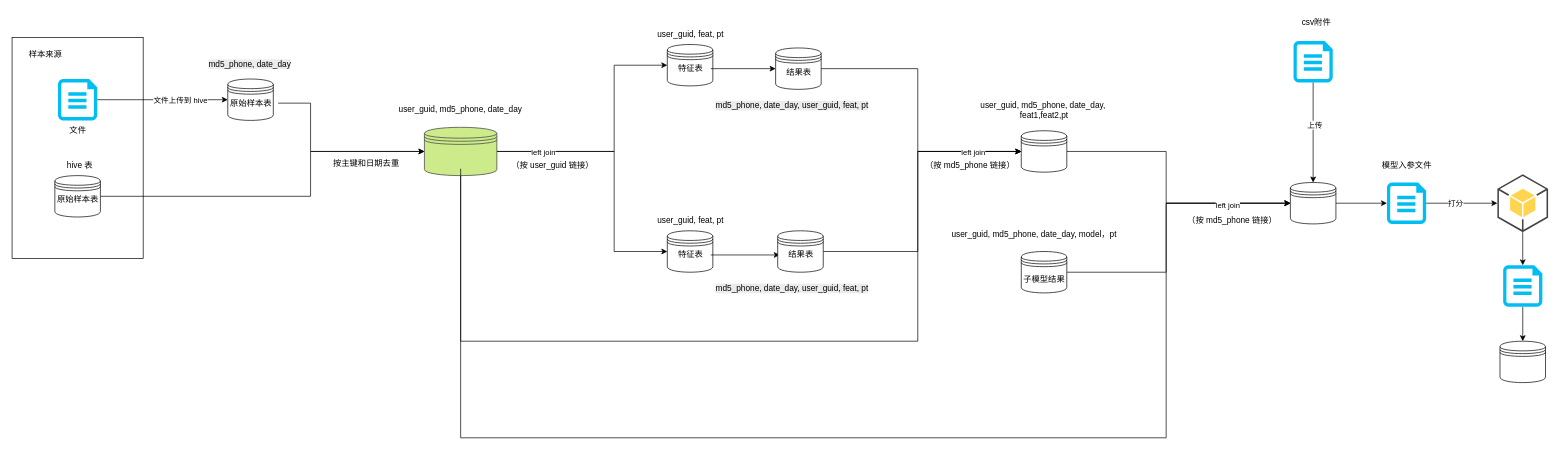
Some shapes in this 1561 by 455 pixel diagram are drawn without their labels. Each missing label, with the box of its shape:
csv 附件表: (1290, 182, 1336, 224)
去重后的样本表: (424, 127, 497, 176)
合并结果表: (1021, 130, 1067, 172)
模型结果表: (1499, 341, 1546, 383)
